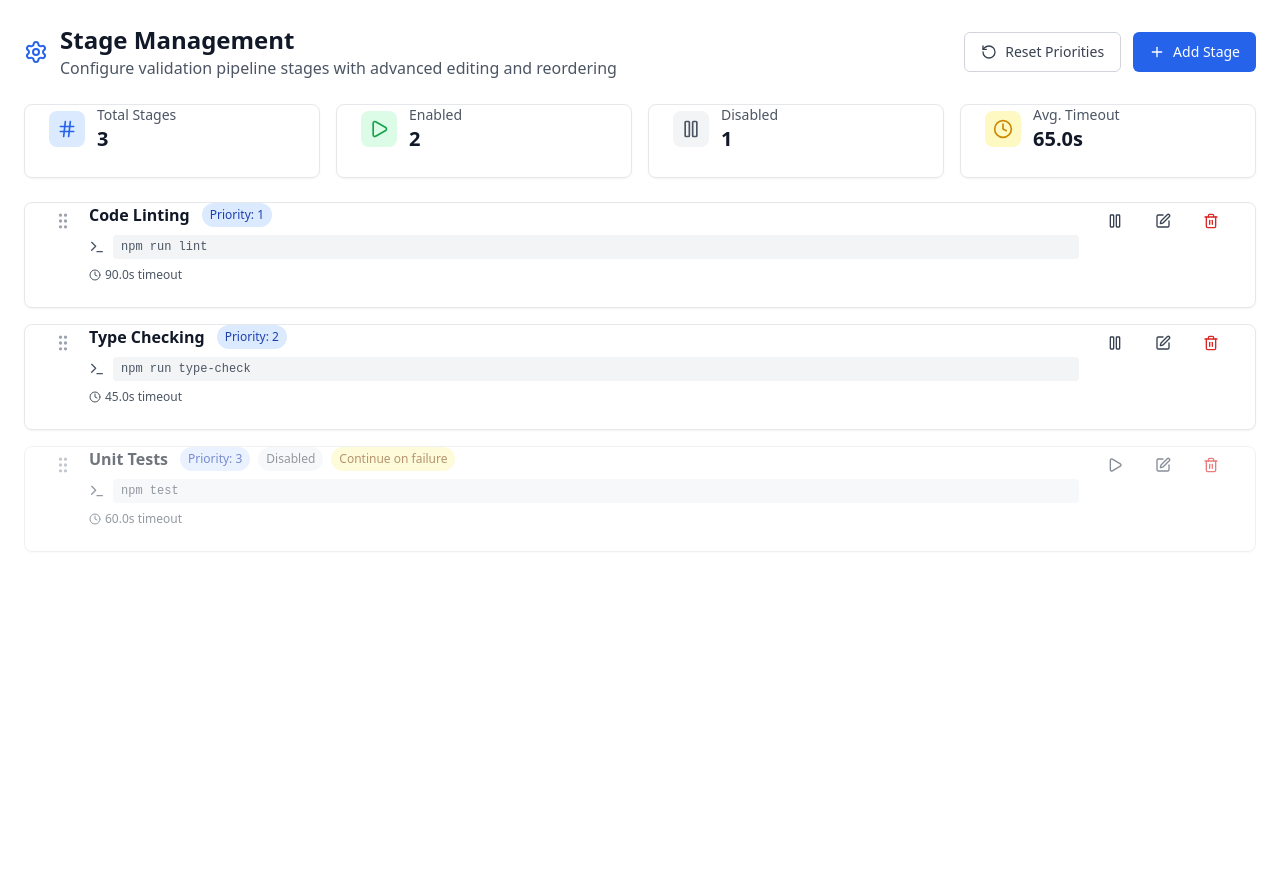
Test: StageManagement › validates form fields correctly
Expected: the heading "Code Linting" is shown, [89, 203, 190, 227]
Click Add Stage button (get the first one)
Click the button "Add Stage": (1195, 52) [1133, 32, 1256, 72]
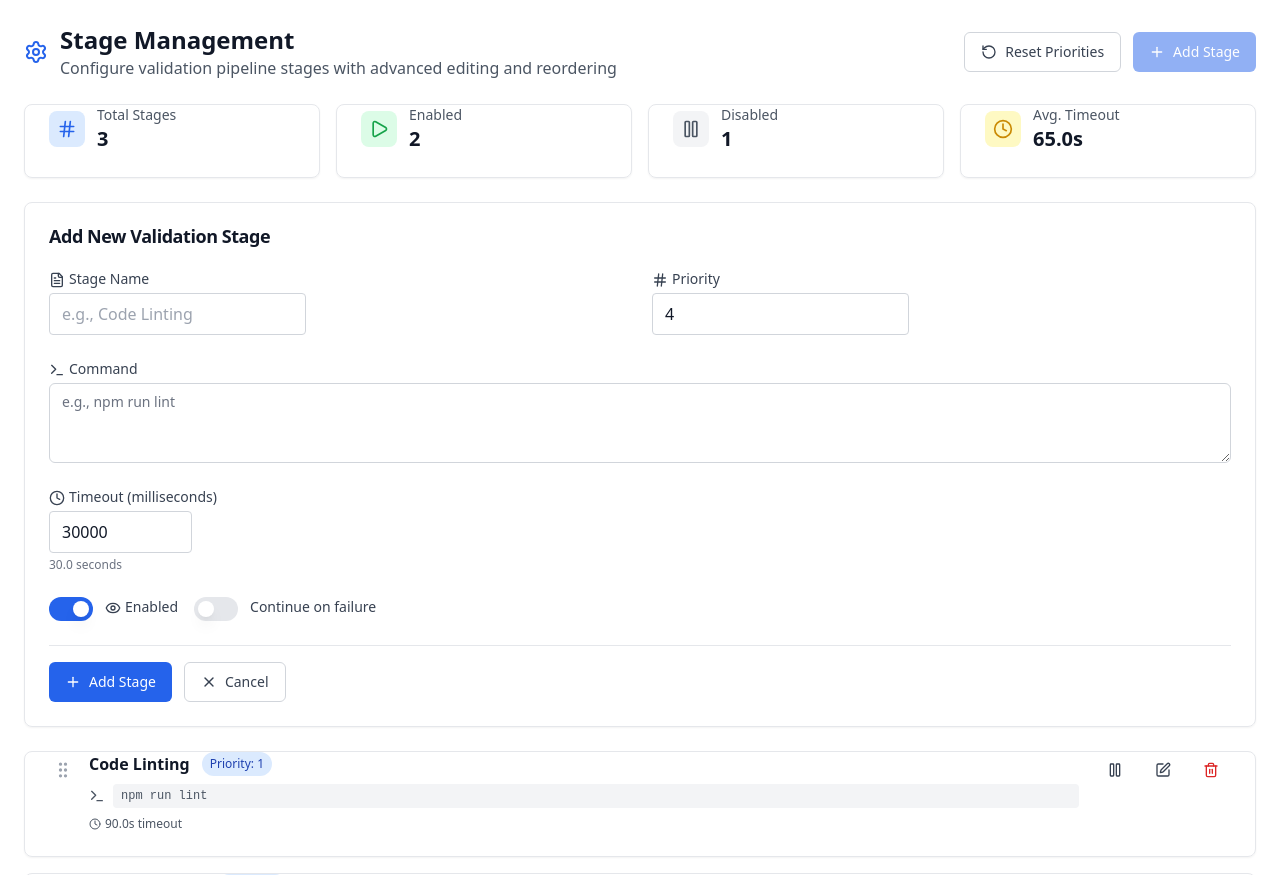
Try to submit empty form - find the submit button in the form context
Click the button "Add Stage" below "30.0 seconds": (110, 682) [49, 662, 172, 702]
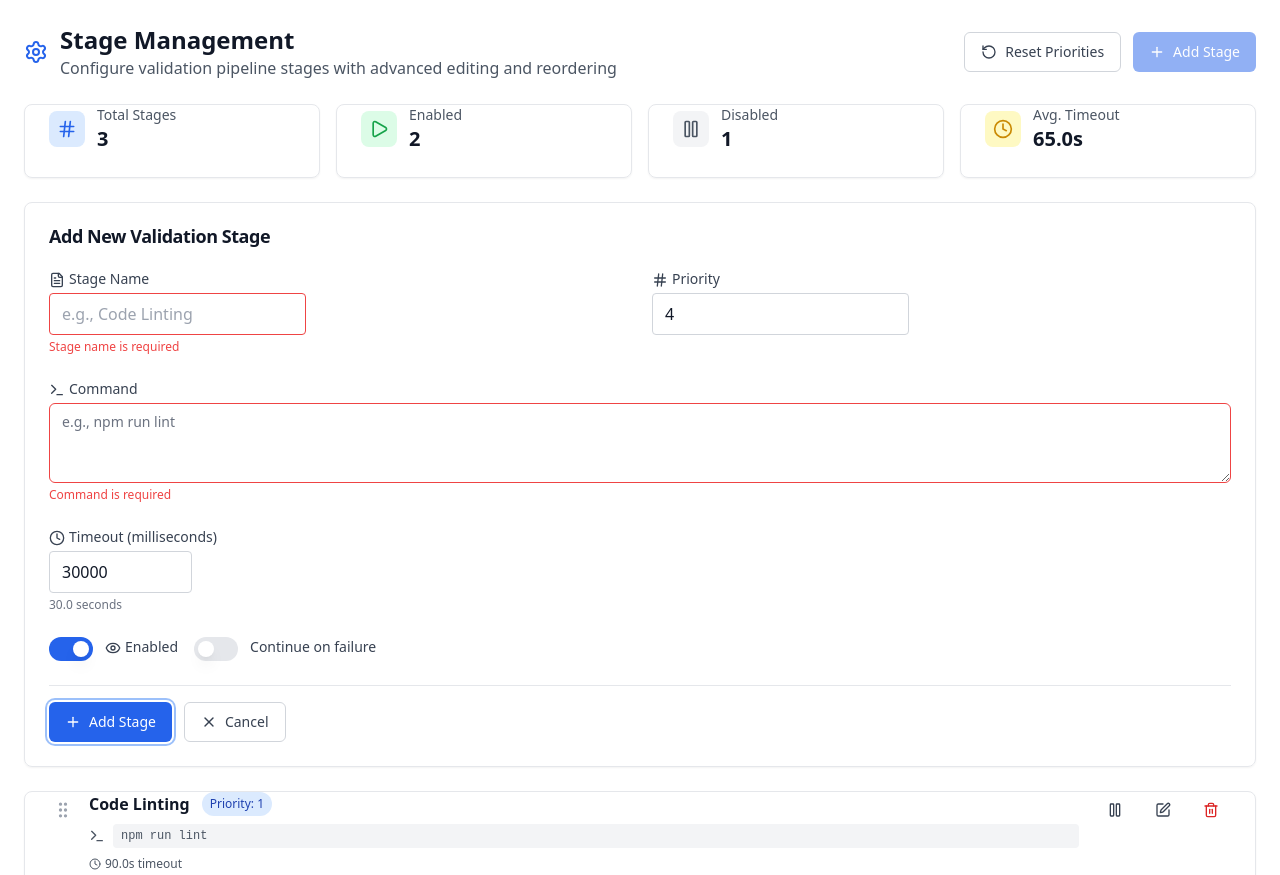
Expected: the text "Stage name is required" is shown, [49, 338, 179, 355]
Expected: the text "Command is required" is shown, [49, 486, 171, 503]
